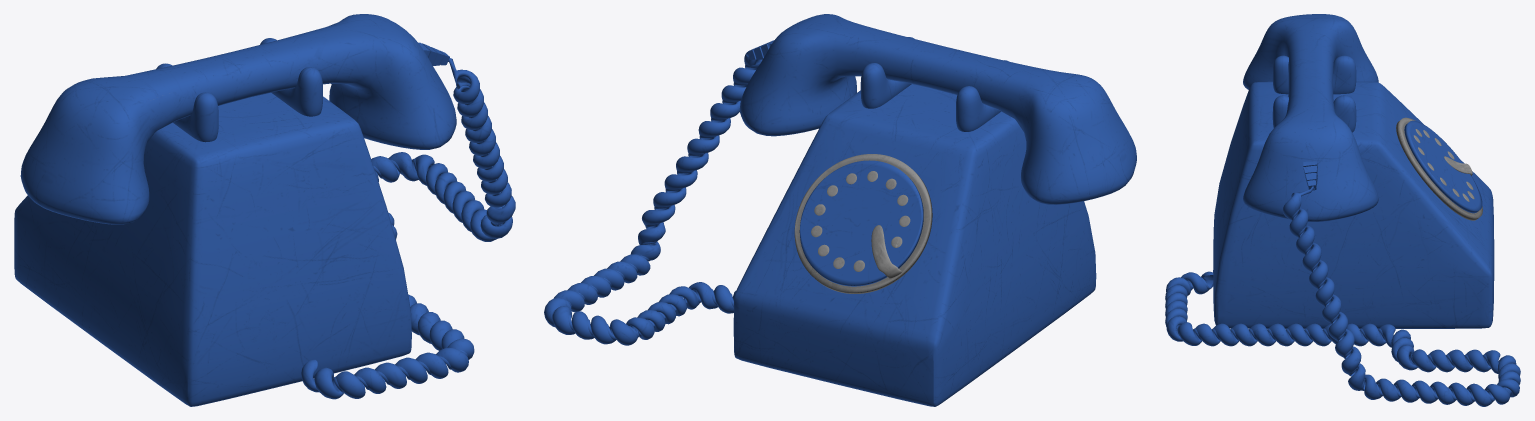
File: telephone.glb
3 views of the same model, side by side, from view 1: azimuth 30°, elevation 25°; view 2: azimuth 150°, elevation 25°; view 3: azimuth 270°, elevation 25° (orthographic). The views are drawn at different scales.
Visible parts, largest first — view 1: Circle; view 2: Circle; view 3: Circle.
Boxes of the visible parts, x1,y1,x2,y2 form: Circle: (14, 14, 515, 406); Circle: (544, 14, 1136, 406); Circle: (1165, 14, 1520, 406).
Bounding box in the file's own units: 1.81 × 0.9536 × 1.38.
Materials: 1 (1 with a texture image).
